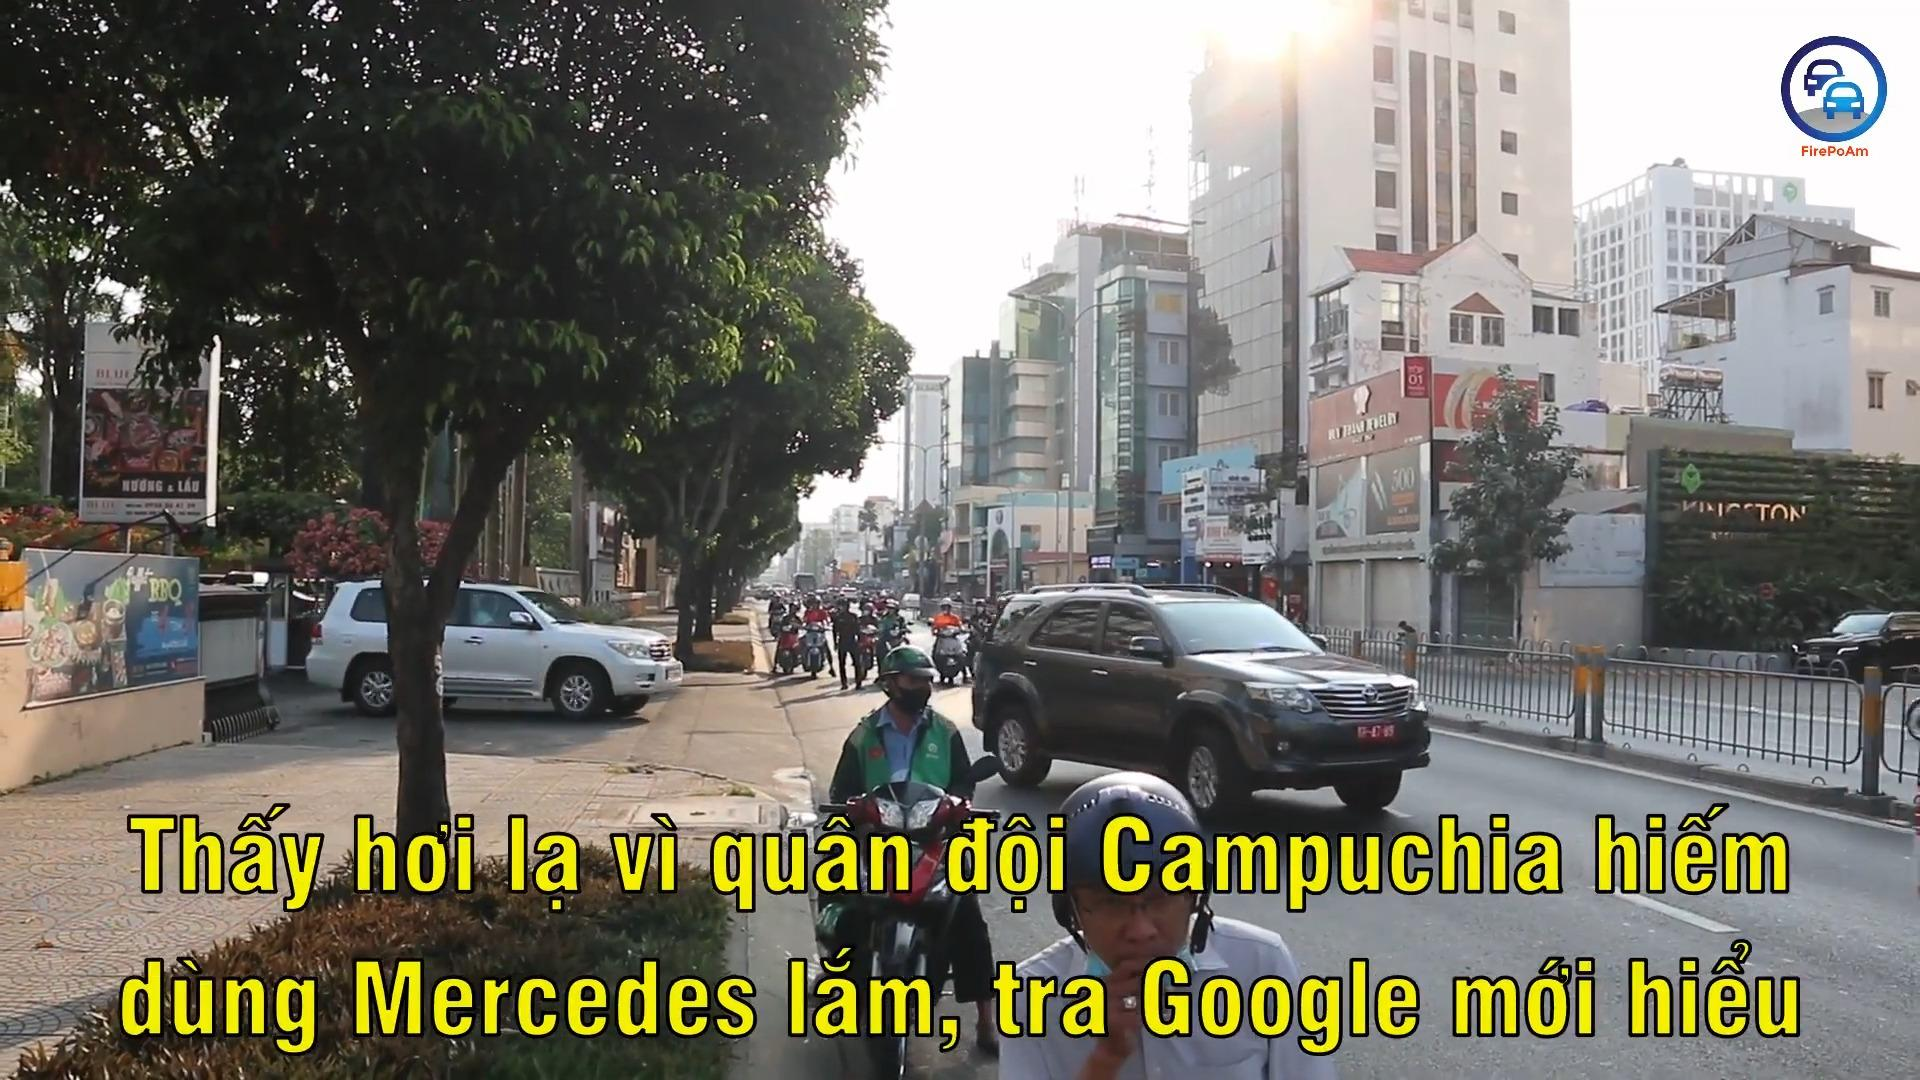bien_so: (1353, 716, 1399, 745)
